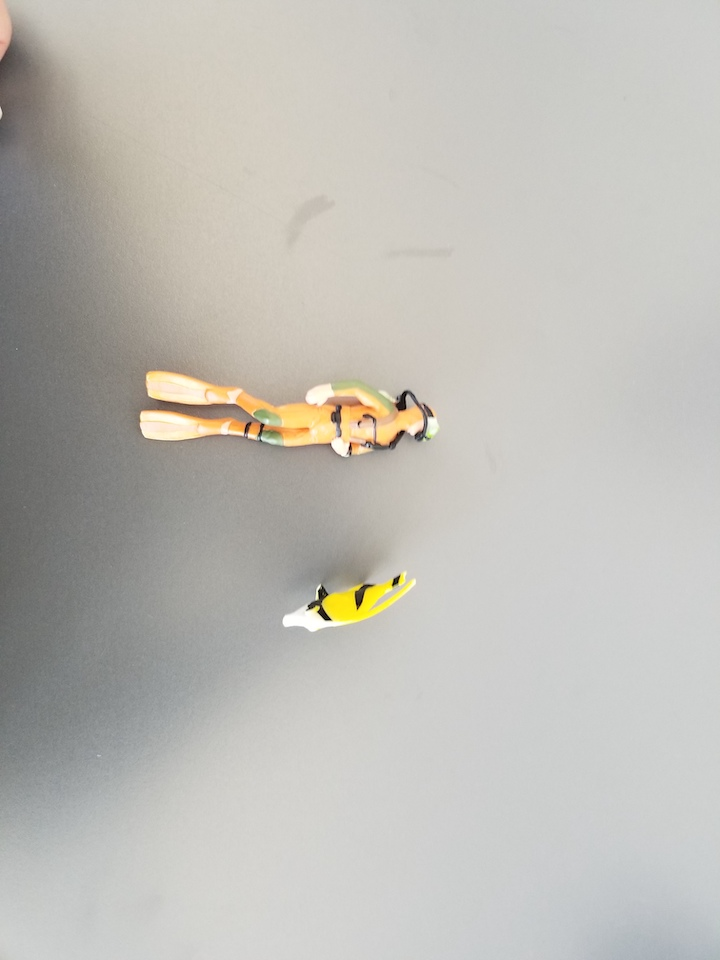danger: (280, 569, 420, 638)
diver: (139, 368, 443, 463)
